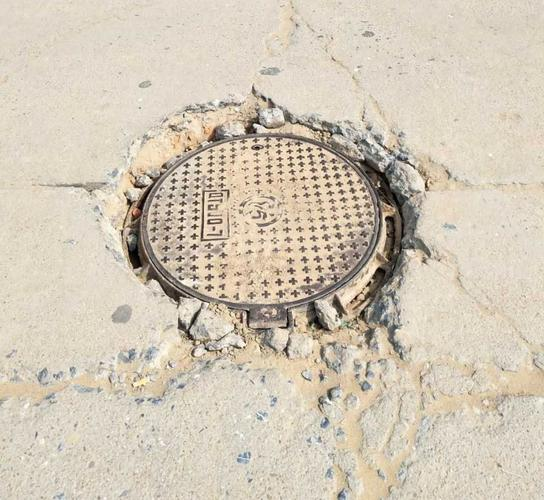circle: (79, 89, 450, 367)
